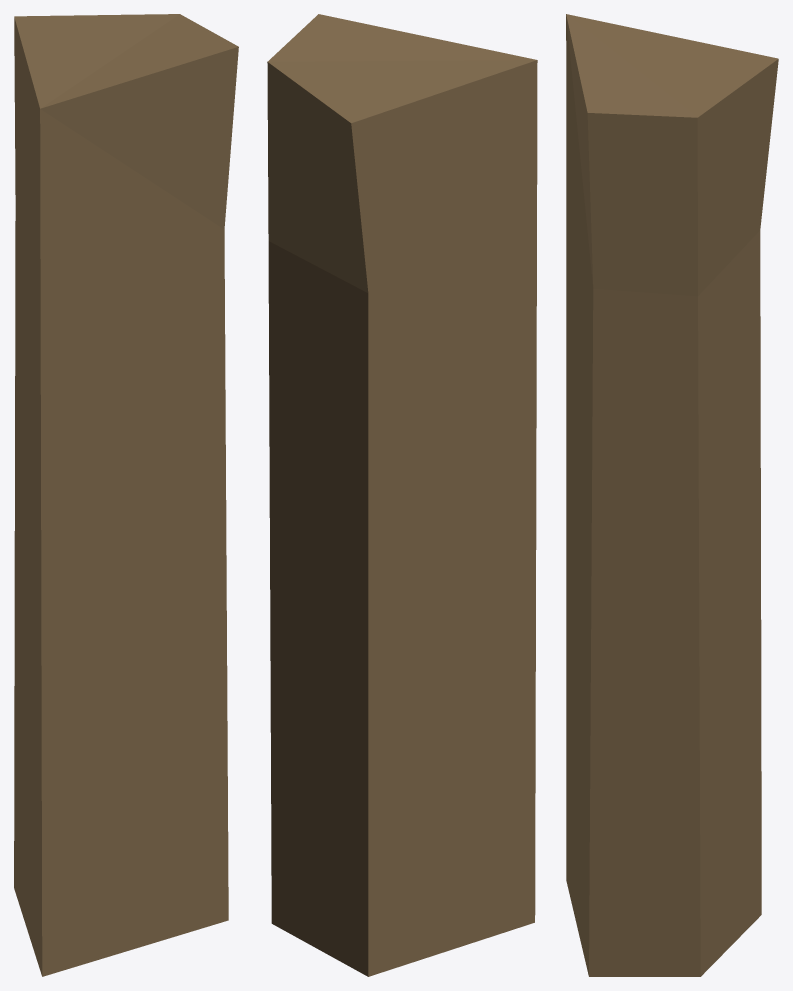
File: Rock.002.fbx
3 views of the same model, side by side, from view 1: azimuth 30°, elevation 25°; view 2: azimuth 150°, elevation 25°; view 3: azimuth 270°, elevation 25° (orthographic).
Parts seen in each view (by area): view 1: Rock.002; view 2: Rock.002; view 3: Rock.002.
Boxes of the visible parts, x1,y1,x2,y2 form: Rock.002: [14, 14, 238, 976]; Rock.002: [267, 14, 537, 976]; Rock.002: [566, 14, 778, 976].
Bounding box in the file's own units: 118 × 468 × 104.
